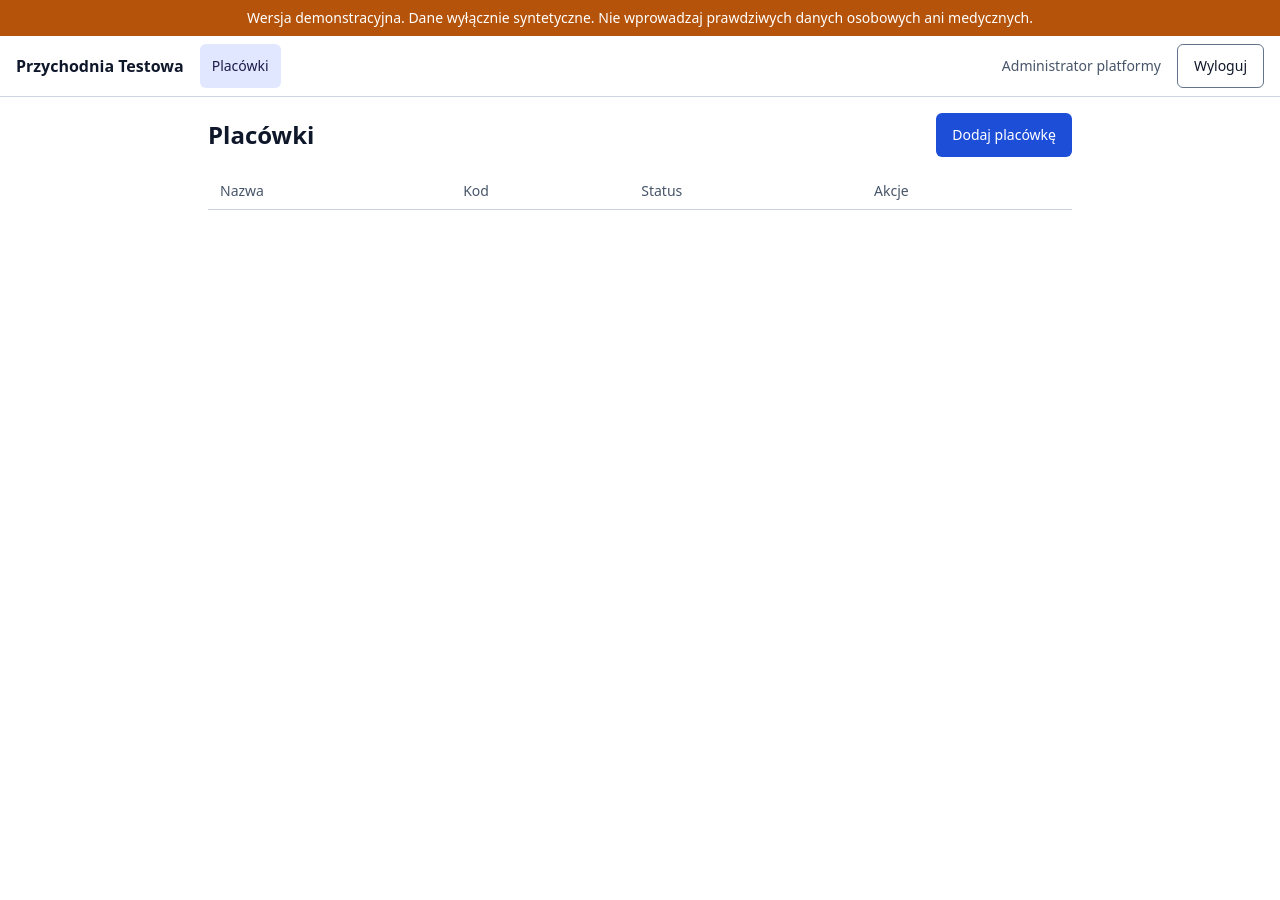
Test: placówki platformy › rejects an invalid slug before calling the API
The width and height of the screenshot is (1280, 900).
Click the button "Dodaj placówkę": (1004, 135) left=936, top=113, right=1072, bottom=157
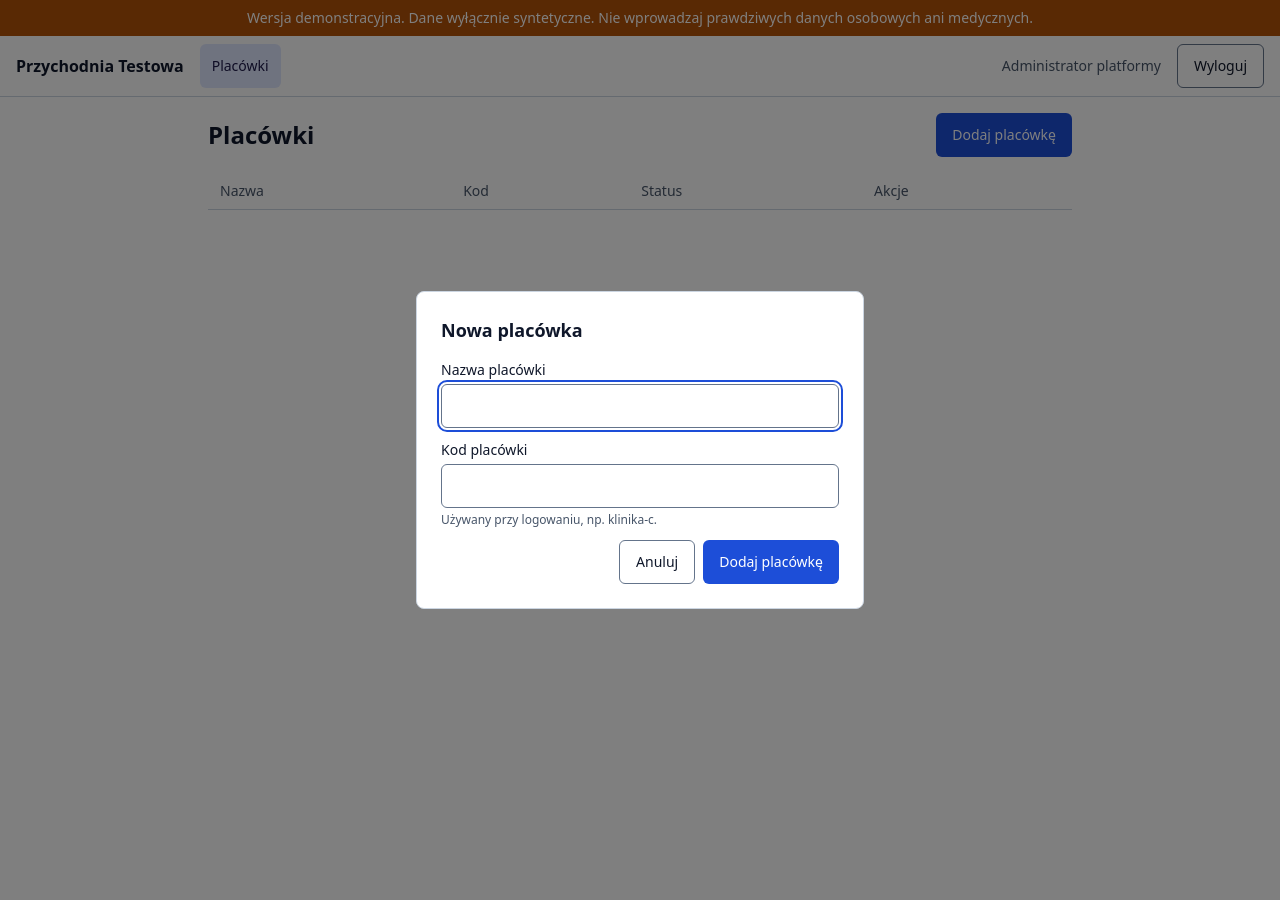
In the field labelled "Nazwa placówki": (640, 406) left=441, top=384, right=839, bottom=428, type "X"
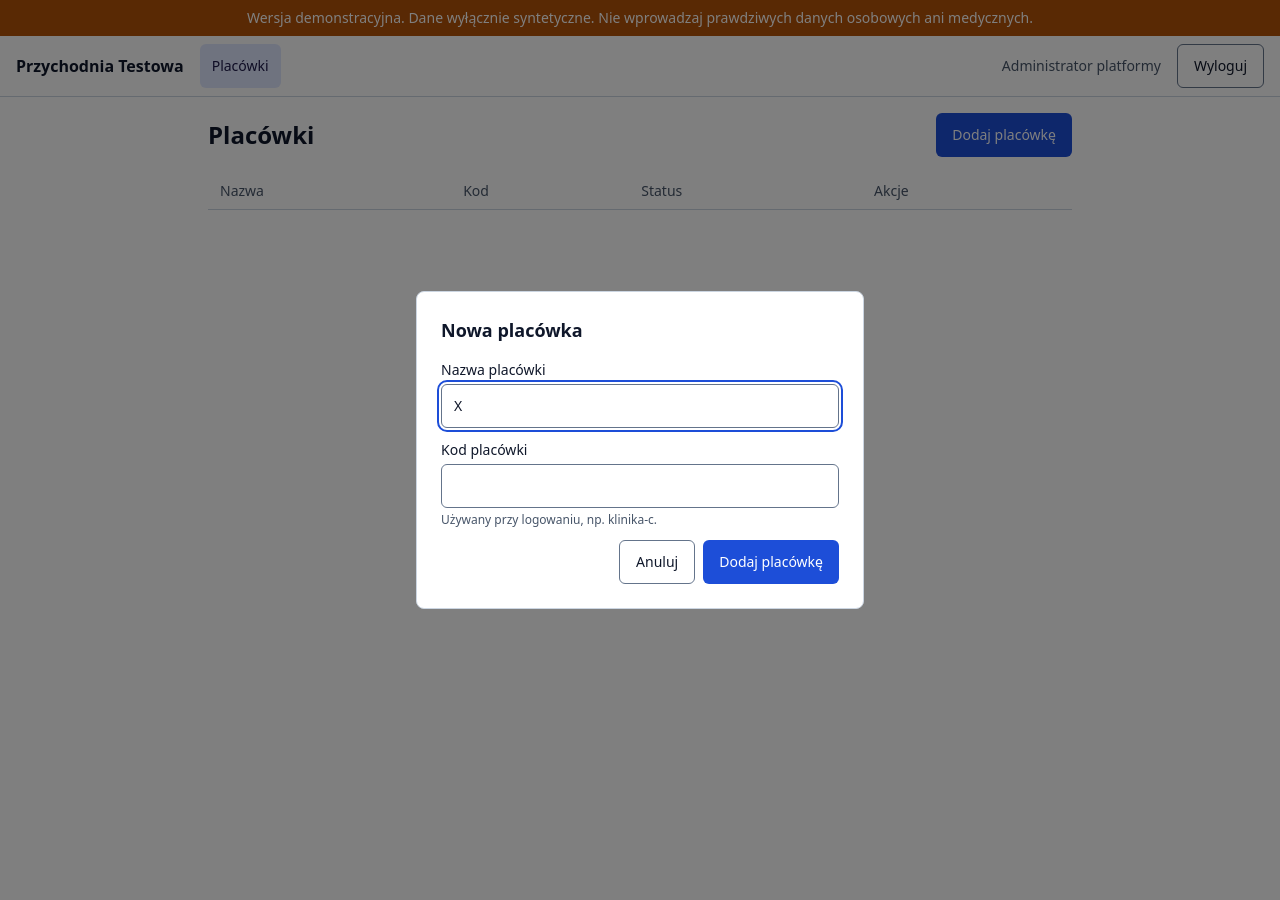
In the field labelled "Kod placówki": (640, 486) left=441, top=464, right=839, bottom=508, type "Zły Kod"
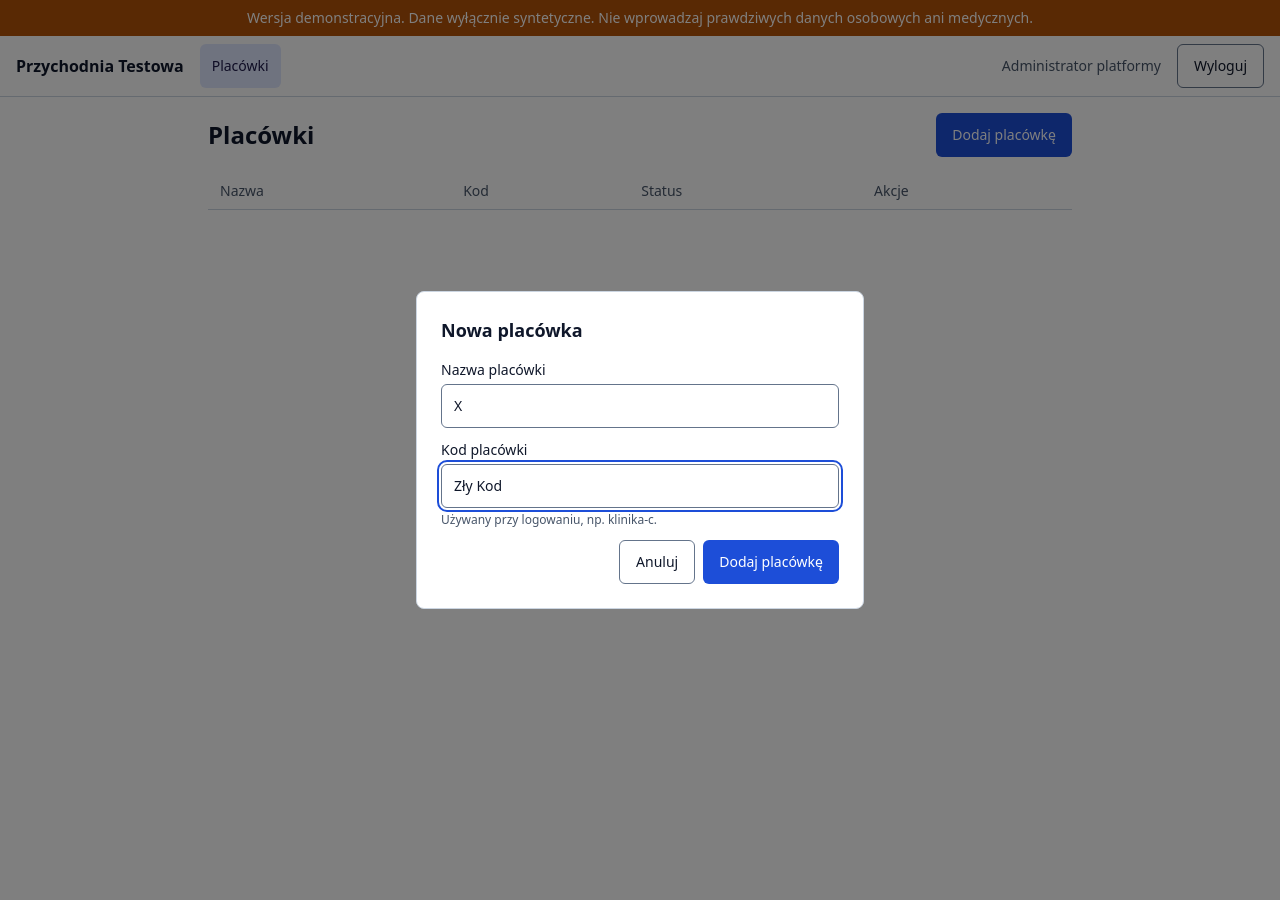
Click the button "Dodaj placówkę": (771, 562) left=703, top=540, right=839, bottom=584
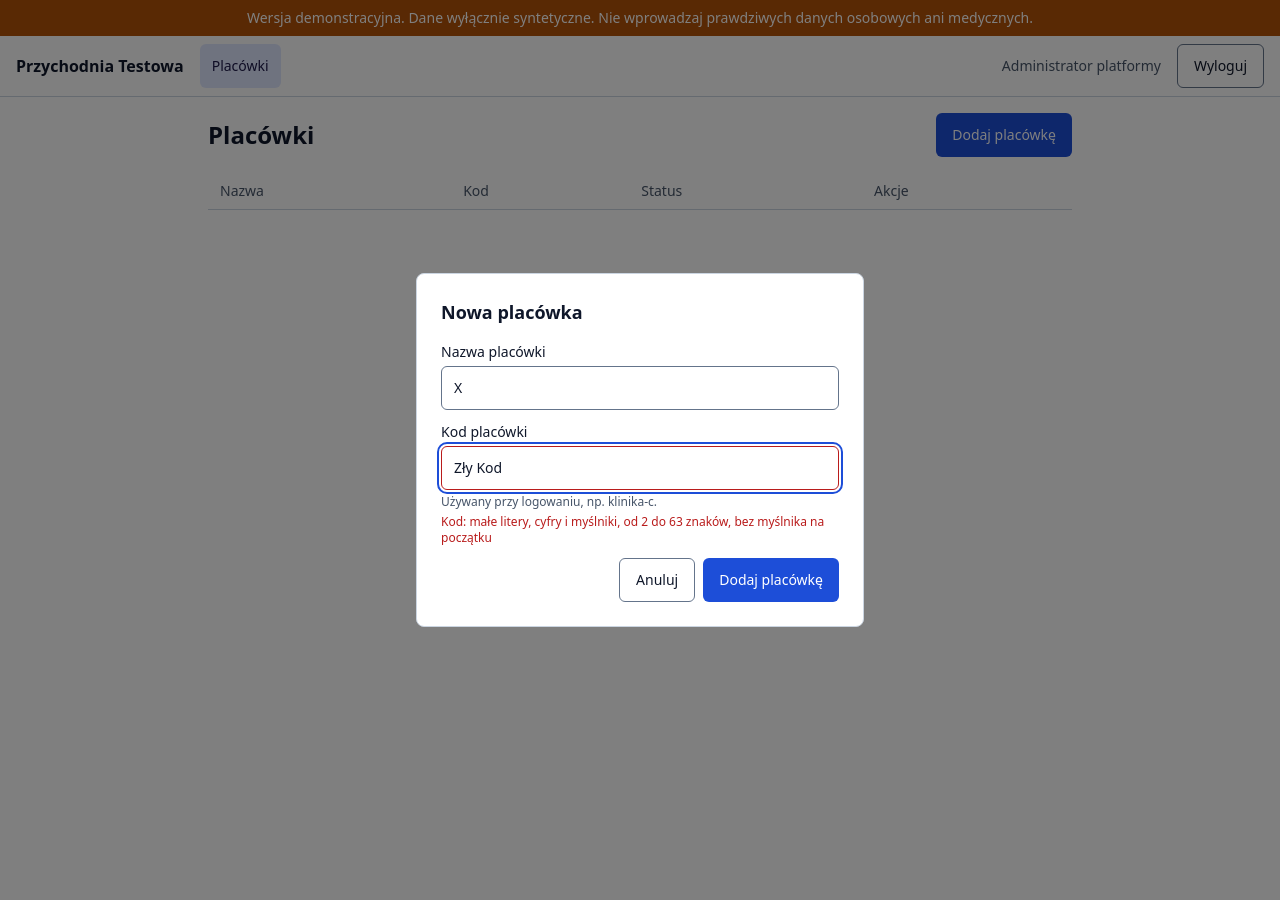
Check: the text "Kod: małe litery, cyfry i myślniki" is shown, box left=441, top=513, right=824, bottom=546
